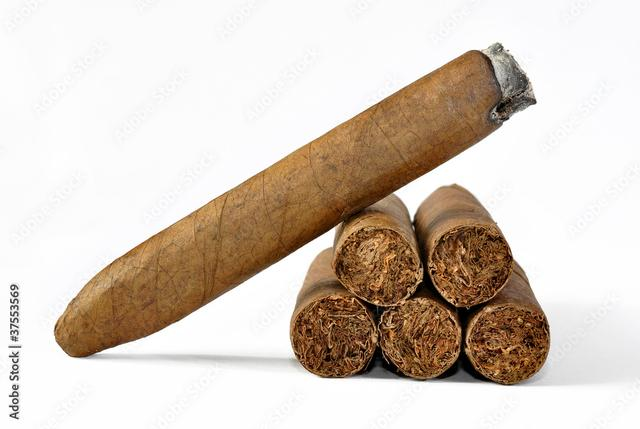Cigar: (52, 40, 537, 358), (412, 182, 513, 308), (462, 257, 550, 384), (289, 249, 377, 376), (330, 191, 424, 307), (377, 298, 460, 383)
